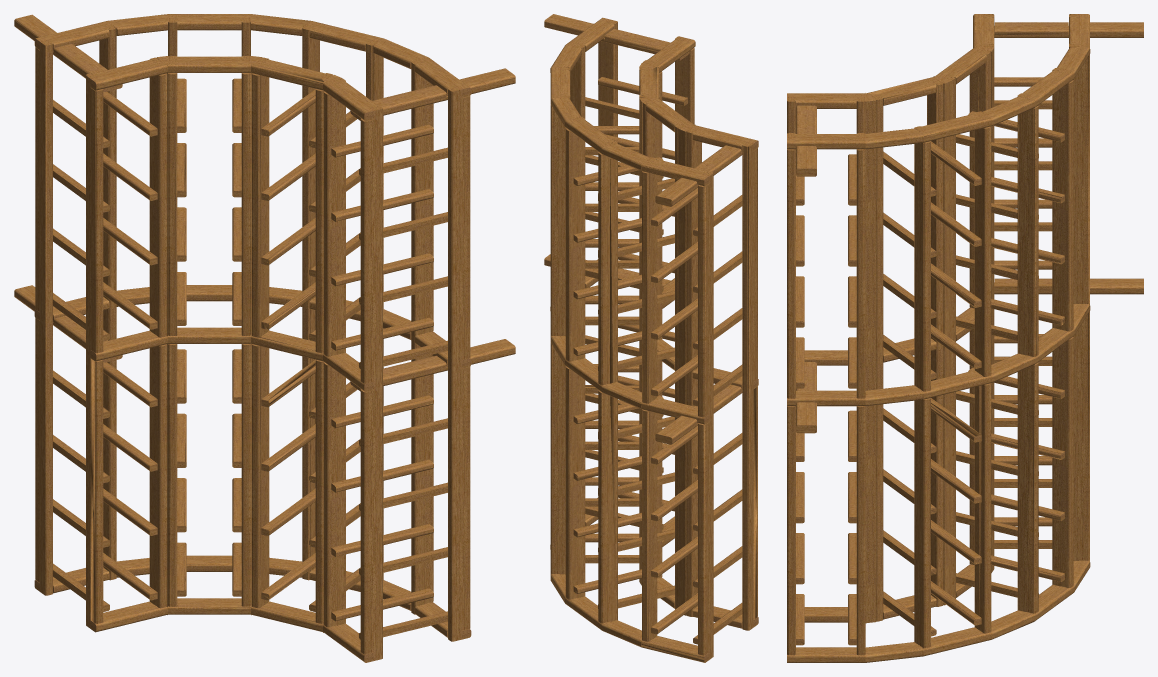
Rendered from VCKA0040.glb.
The picture shows the model from 3 angles, left to right: view 1: azimuth 30°, elevation 25°; view 2: azimuth 150°, elevation 25°; view 3: azimuth 270°, elevation 25°; orthographic projection. The views are drawn at different scales.
Parts seen in each view (by area): view 1: Mesh_24; view 2: Mesh_24; view 3: Mesh_24.
Boxes of the visible parts, x1,y1,x2,y2 form: Mesh_24: (14,14,515,662); Mesh_24: (544,14,758,662); Mesh_24: (787,14,1143,662).
Bounding box in the file's own units: 0.5036 × 0.812 × 0.5036.
2 materials, 2 textured.
